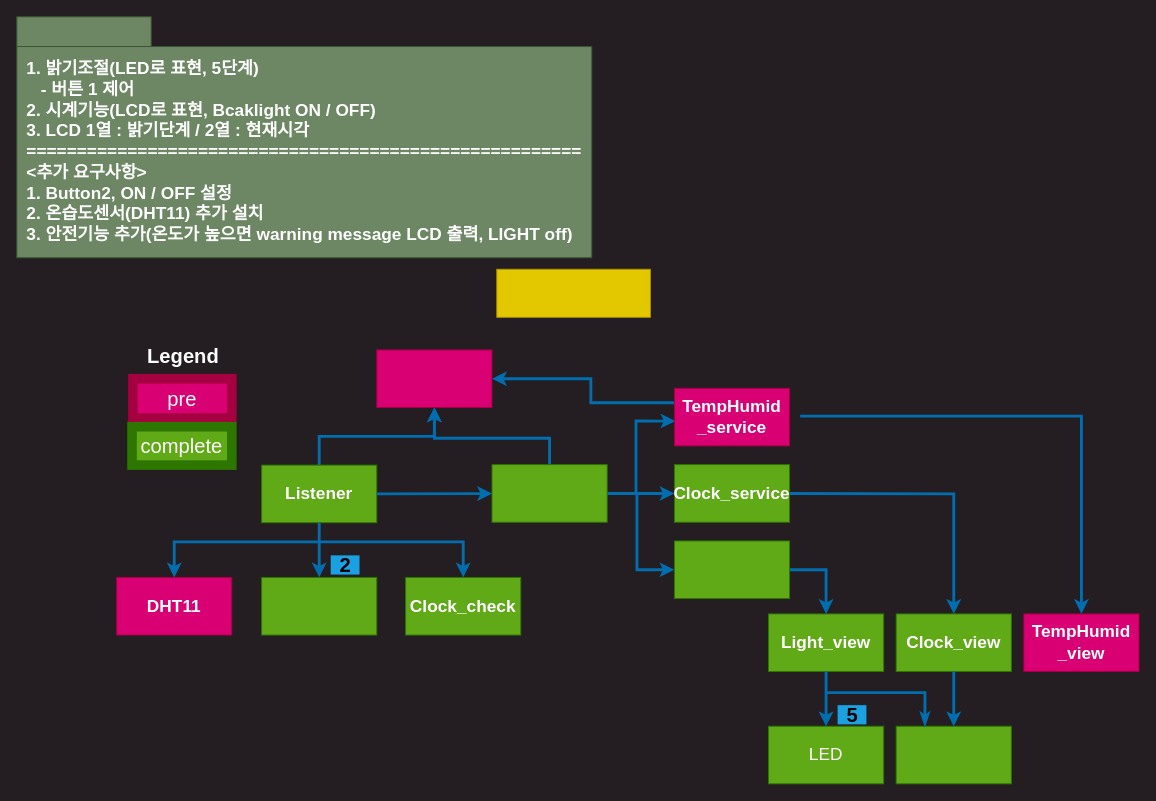
Image size: 1156x801. Some labels were removed from this diagram. The box of each missing label's shape, as (x1, y1, x2, y2) in pixels:
<요구사항>: (16, 16, 151, 47)
Button: (261, 576, 377, 635)
Controller: (491, 464, 607, 522)
DHT_Data: (376, 349, 492, 408)
FSM: (496, 268, 650, 317)
LCD: (895, 725, 1011, 784)
StandLight _service: (673, 540, 790, 599)
